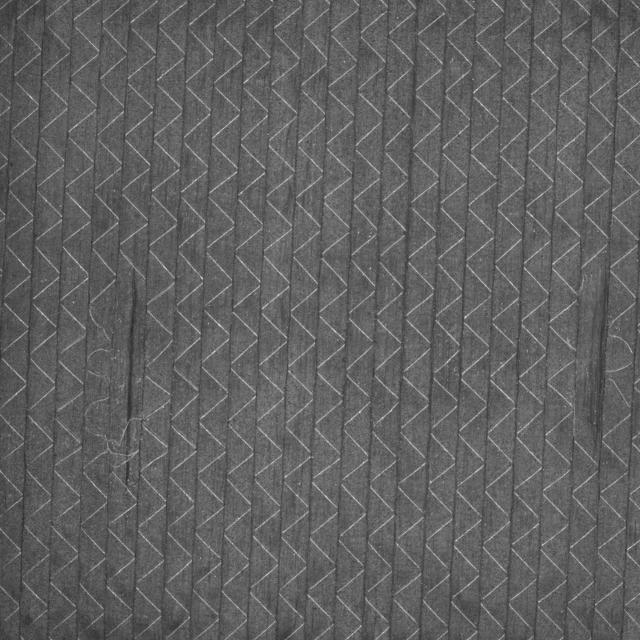carbon-fibre-defect: (83, 279, 167, 460), (570, 270, 616, 455)
